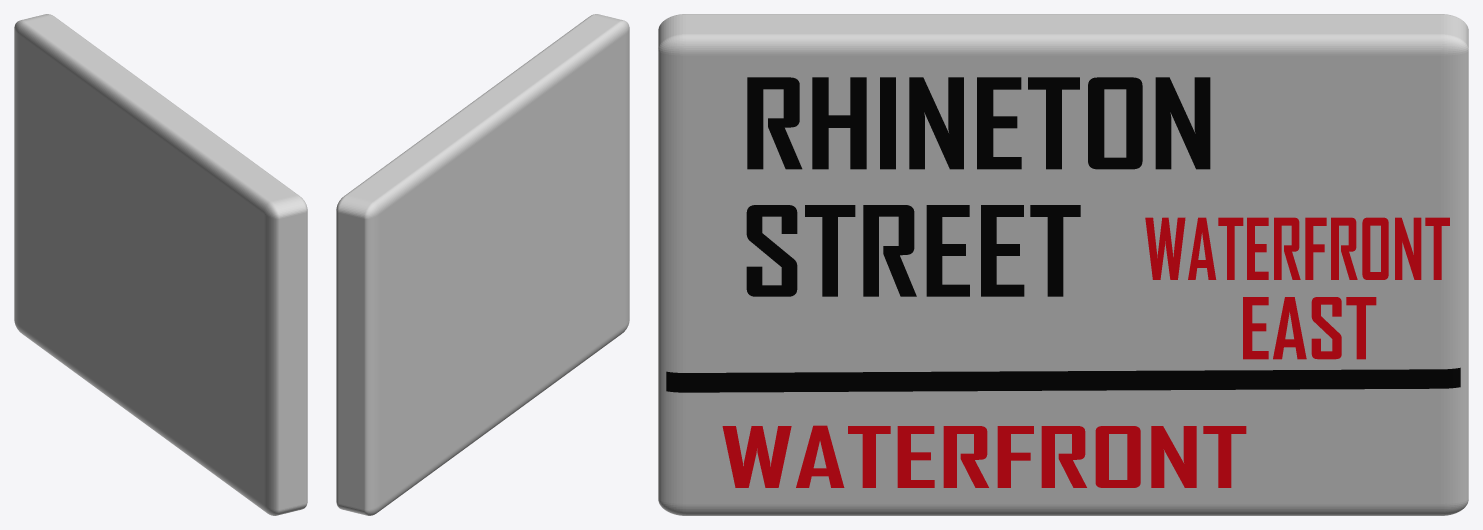
The model's file is uk_styled_street_sign_40.fbx.
3 views of the same model, side by side, from view 1: azimuth 30°, elevation 25°; view 2: azimuth 150°, elevation 25°; view 3: azimuth 270°, elevation 25° (orthographic). The views are drawn at different scales.
Parts seen in each view (by area): view 1: Cube; view 2: Cube; view 3: Cube, Text, Text.002, Text.001, Text.003, Text.004.
Boxes of the visible parts, bbox=[...] form: Cube: bbox=[14, 14, 307, 515]; Cube: bbox=[336, 14, 629, 515]; Cube: bbox=[658, 14, 1468, 515]; Text: bbox=[747, 77, 1210, 169]; Text.002: bbox=[722, 425, 1246, 487]; Text.001: bbox=[746, 205, 1080, 296]; Text.003: bbox=[1145, 217, 1449, 279]; Text.004: bbox=[1243, 297, 1376, 359].
Bounding box in the file's own units: 1.63 × 11.91 × 18.18.
